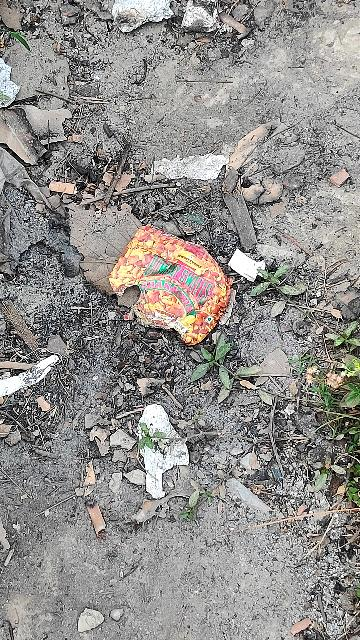packet: (109, 226, 244, 347)
